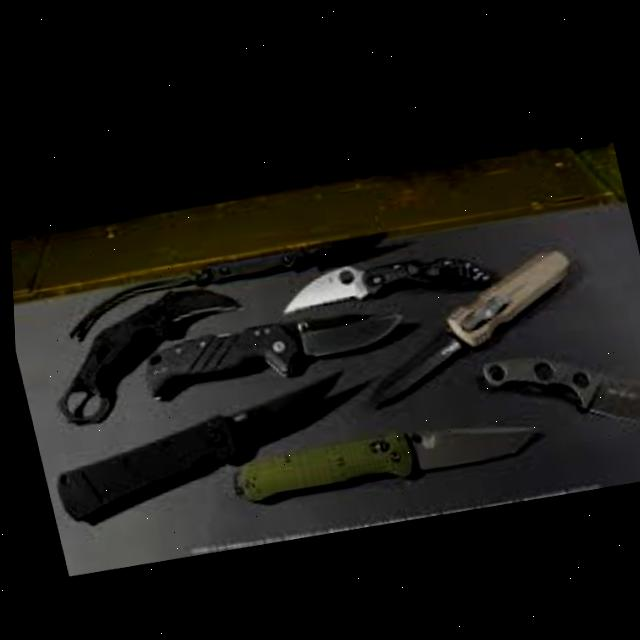knife: (34, 355, 376, 536), (338, 235, 597, 414), (54, 219, 401, 349), (221, 396, 547, 511), (32, 272, 260, 431), (133, 290, 413, 407), (477, 322, 640, 451), (270, 231, 492, 322)
